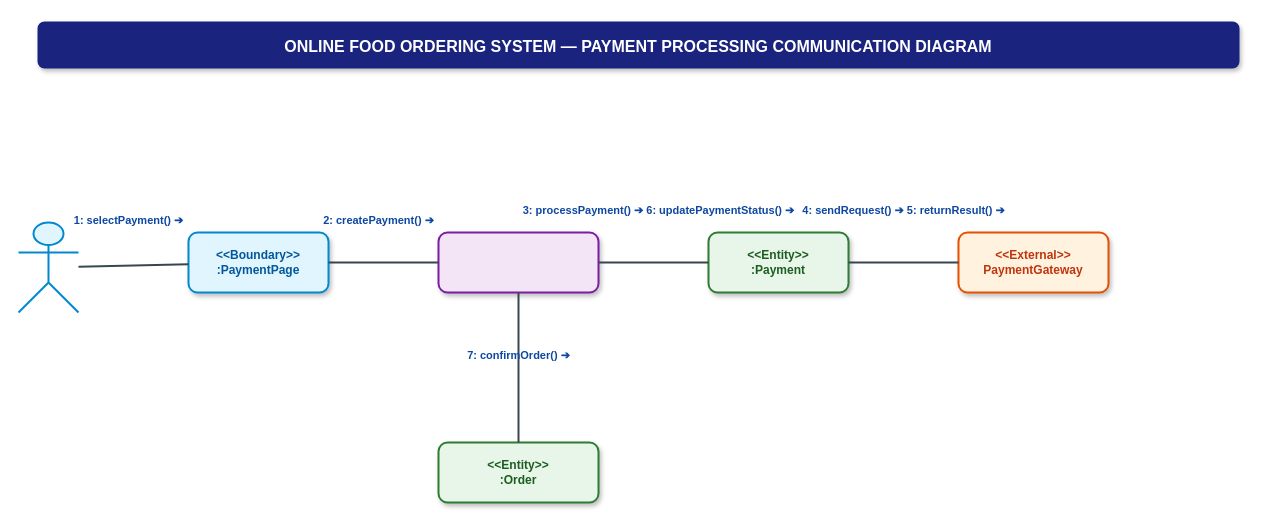
This 1262x527 diagram has some shape labels left out. Here are the shapes that lost their labels. From the top down, the centre of each, then its label:
At (48,267): ":Customer".
At (519,263): "<<Control>> :PaymentController".
